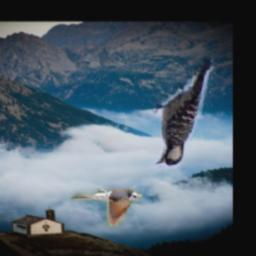Cuckoo: (72, 189, 143, 228)
Woodpecker: (148, 54, 217, 173)
